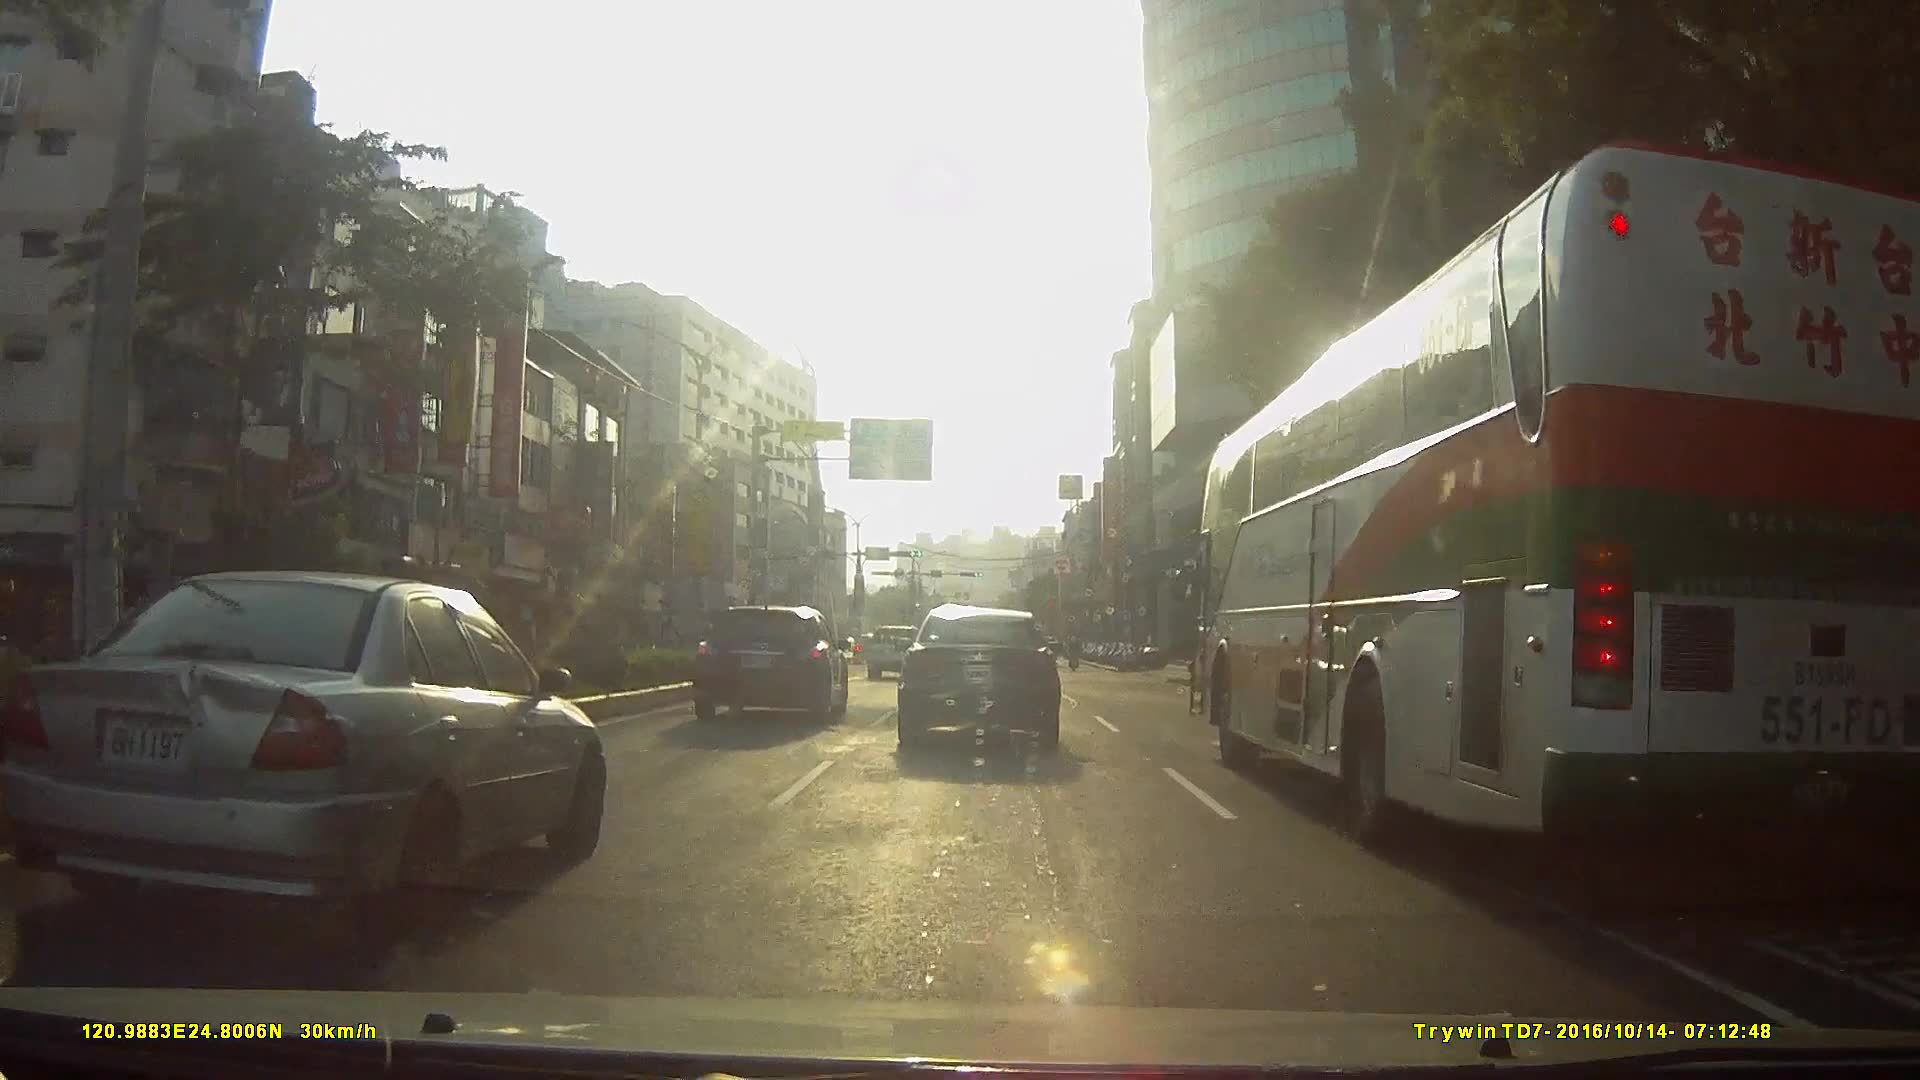vehicle: (1201, 74, 1917, 881), (0, 564, 604, 944), (893, 600, 1060, 750), (692, 601, 851, 719), (862, 622, 923, 680)
